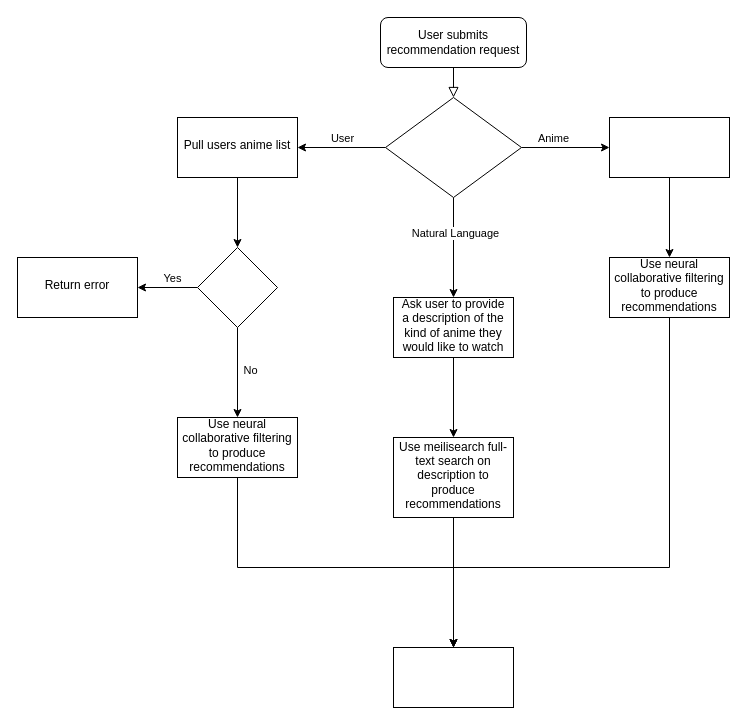
Image size: 747x725. Some labels were removed from this diagram. Here are the shapes that lost their labels. From the top down, the centre of each, then its label:
At (x=453, y=147): "Which mode was used?".
At (x=669, y=147): "Ask user to enter anime they want recommendations for".
At (x=237, y=287): "List empty?".
At (x=453, y=677): "Return recommendations".
